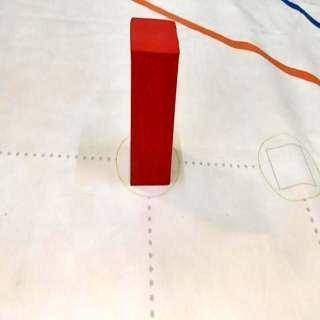redbox: (128, 18, 180, 186)
